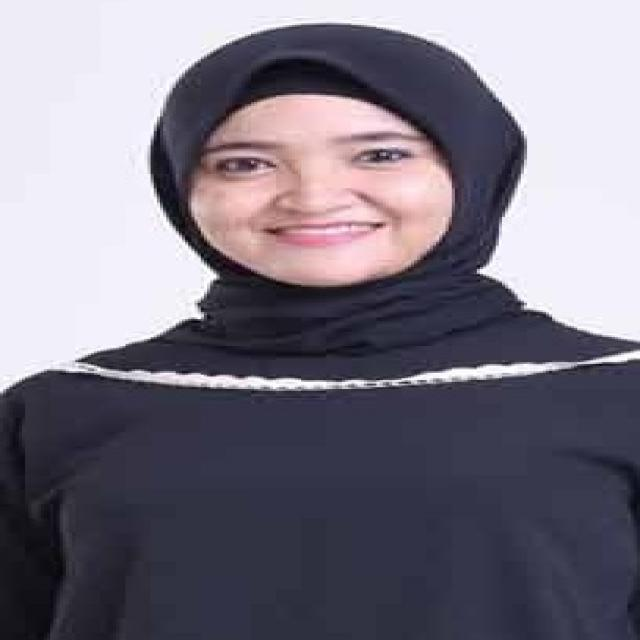head: (144, 18, 532, 301)
